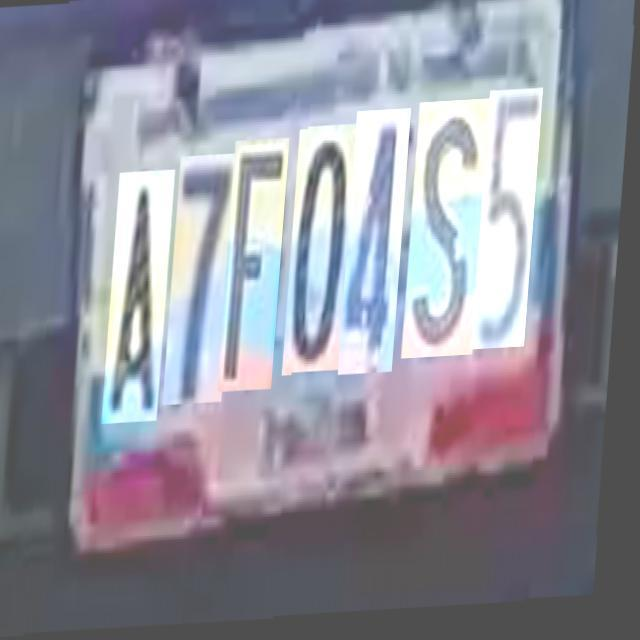4: (344, 113, 413, 380)
5: (477, 94, 545, 356)
7: (169, 154, 242, 405)
A: (108, 169, 178, 423)
F: (224, 138, 292, 392)
O: (288, 128, 360, 377)
S: (407, 105, 493, 364)
